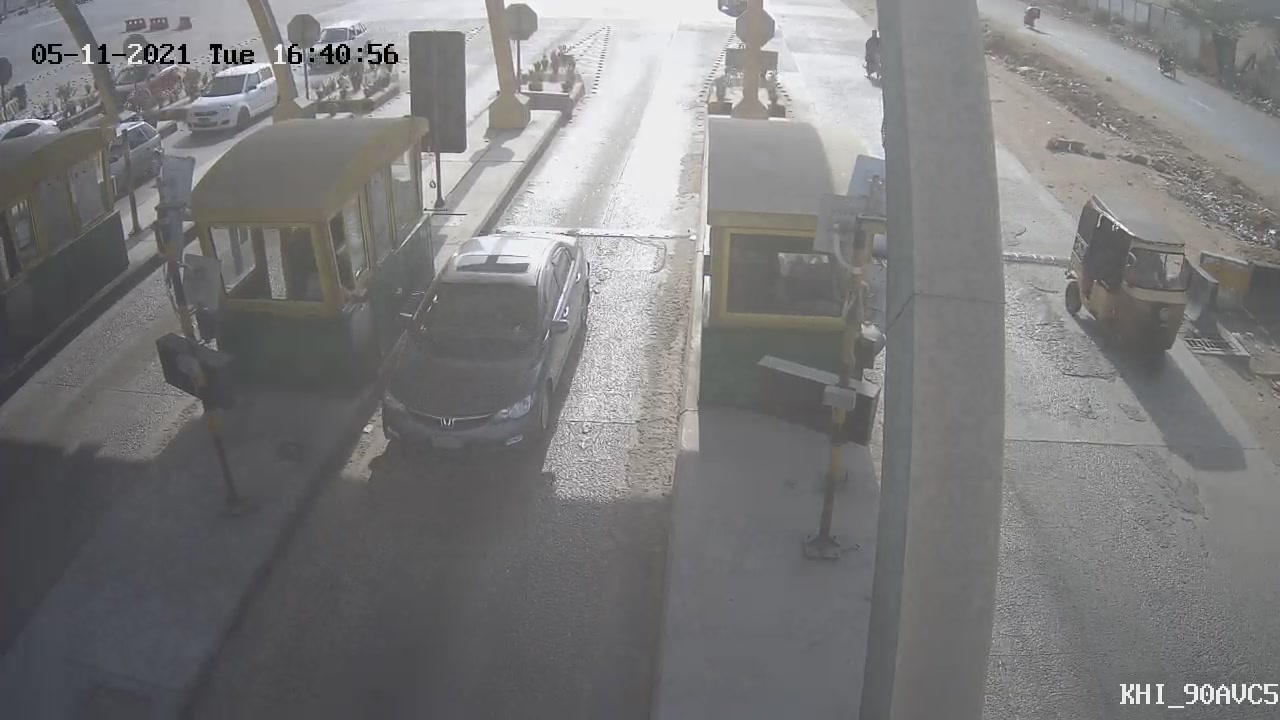F1: (351, 218, 609, 481)
